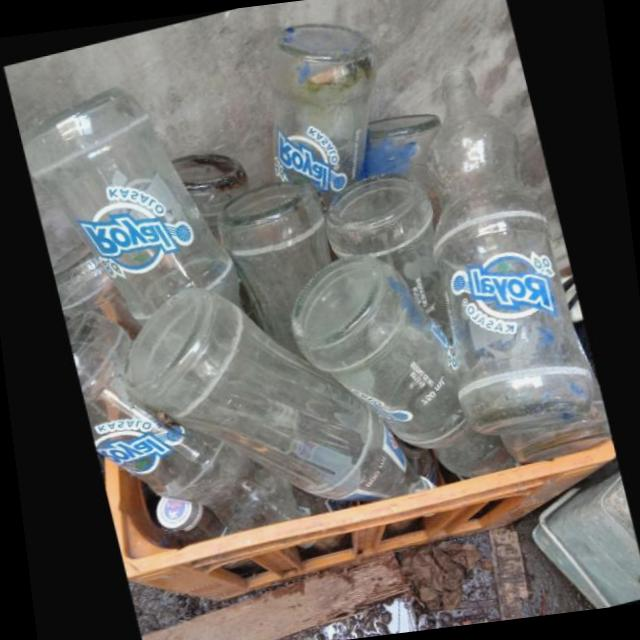chai_thuy_tinh: (123, 288, 436, 502), (426, 68, 594, 440), (65, 313, 304, 534), (20, 88, 239, 326), (291, 255, 513, 481), (266, 24, 377, 211), (216, 182, 331, 360), (326, 173, 448, 339)
